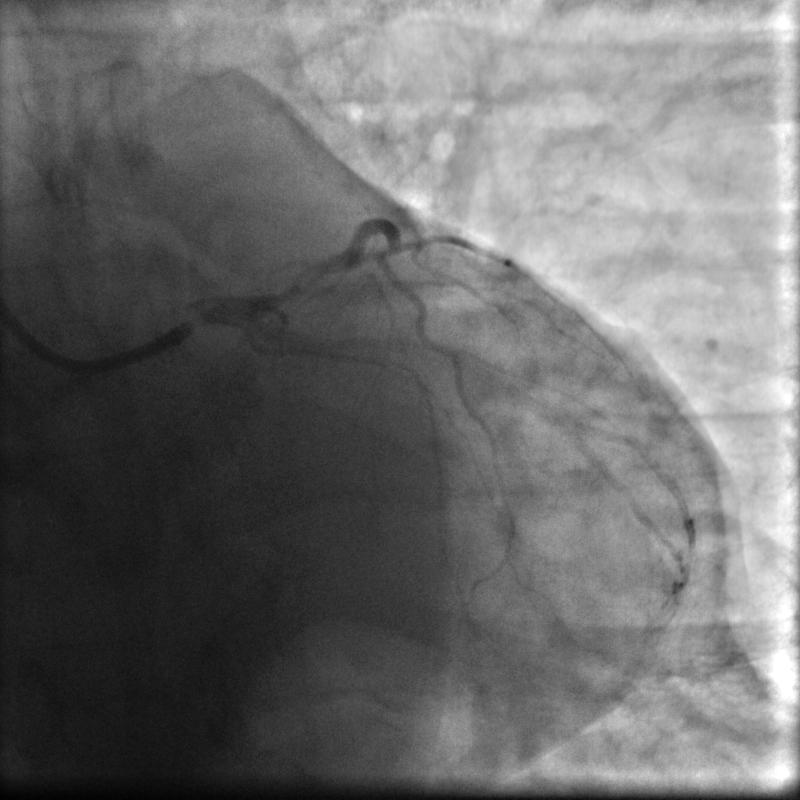Stenosis: (266, 260, 351, 300)
